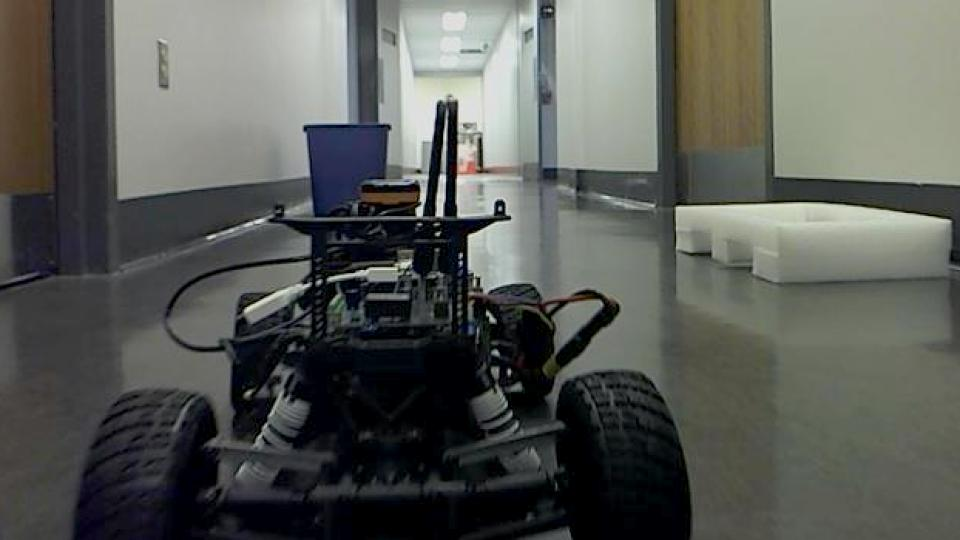car: (68, 94, 696, 540)
